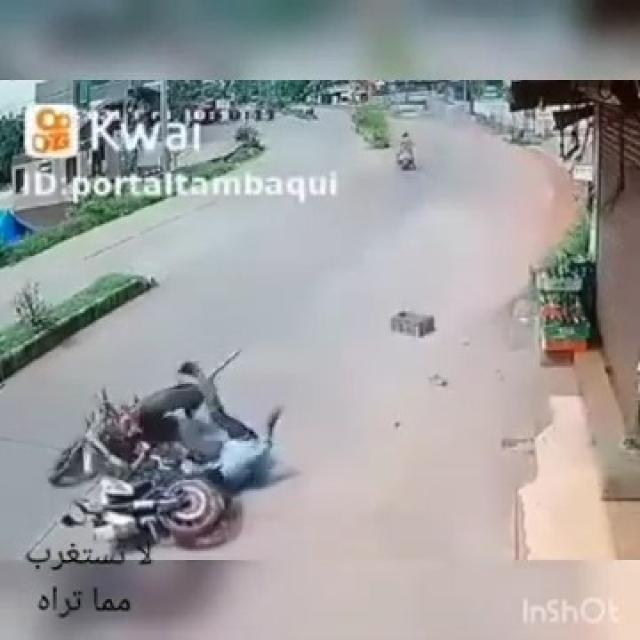accident: (52, 361, 290, 543)
